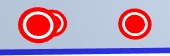Target: (18, 7, 58, 44), (118, 9, 151, 39), (41, 10, 67, 36)
